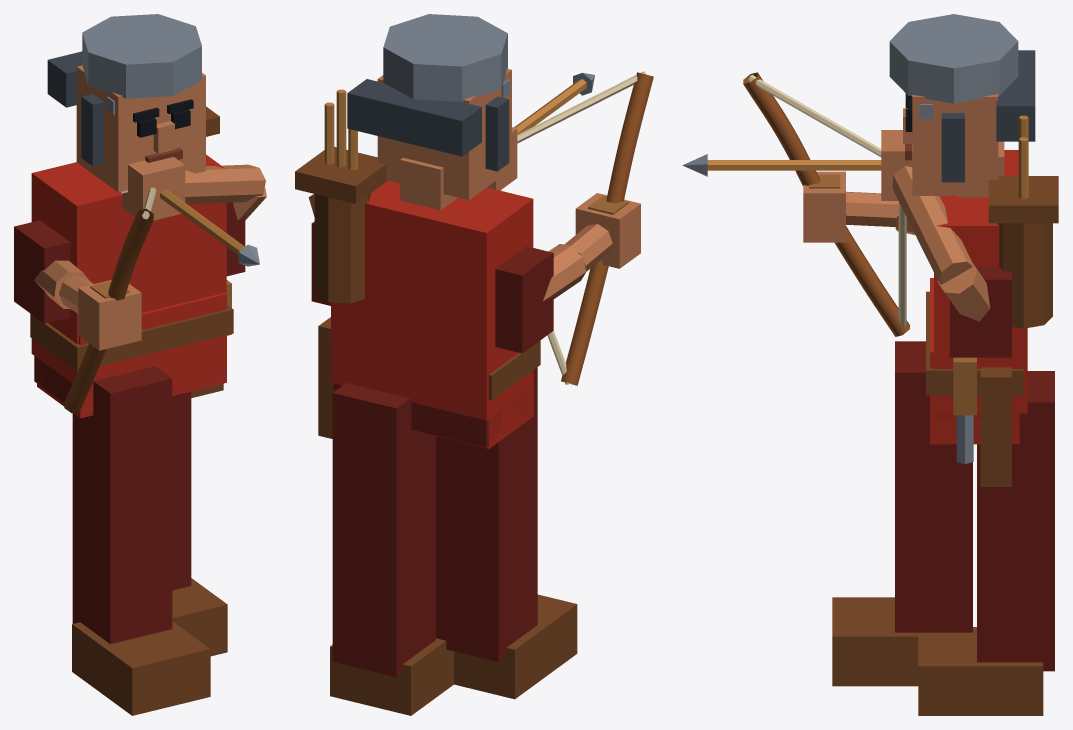
The model's file is sagittarius.glb.
3 renders of one model, left to right at view 1: azimuth 30°, elevation 25°; view 2: azimuth 150°, elevation 25°; view 3: azimuth 270°, elevation 25°, orthographic. The views are drawn at different scales.
Visible parts, largest first — view 1: 01_Gamba_Sinistra_Avanti, 10_Tunica_Busto, 04_Caliga_Sinistra, 30_Elmo_Ausiliario, 21_Viso, 13_Cintura, 12_Tunica_Falda_Destra, 02_Gamba_Destra_Indietro, 50_Manica_Sinistra, 53_Mano_Sinistra_Arco, 70_Arco_Curvo_Parallelo_Al_Corpo, 05_Caliga_Destra (+12 smaller); view 2: 10_Tunica_Busto, 02_Gamba_Destra_Indietro, 01_Gamba_Sinistra_Avanti, 30_Elmo_Ausiliario, 32_Paranuca_Elmo, 04_Caliga_Sinistra, 05_Caliga_Destra, 50_Manica_Sinistra, 40_Faretra, 21_Viso, 70_Arco_Curvo_Parallelo_Al_Corpo, 41_Bordo_Faretra (+14 smaller); view 3: 02_Gamba_Destra_Indietro, 01_Gamba_Sinistra_Avanti, 30_Elmo_Ausiliario, 05_Caliga_Destra, 04_Caliga_Sinistra, 10_Tunica_Busto, 21_Viso, 40_Faretra, 70_Arco_Curvo_Parallelo_Al_Corpo, 60_Manica_Destra, 62_Avambraccio_Destro_Gomito_Mano, 14_Fodero_Pugnale (+15 smaller).
Boxes of the visible parts, x1,y1,x2,y2 form: 01_Gamba_Sinistra_Avanti: (72, 366, 172, 643); 10_Tunica_Busto: (31, 154, 226, 383); 04_Caliga_Sinistra: (72, 621, 210, 715); 30_Elmo_Ausiliario: (82, 14, 201, 98); 21_Viso: (76, 65, 205, 192); 13_Cintura: (30, 305, 233, 371); 12_Tunica_Falda_Destra: (147, 293, 226, 395); 02_Gamba_Destra_Indietro: (172, 391, 191, 590); 50_Manica_Sinistra: (14, 220, 70, 323); 53_Mano_Sinistra_Arco: (78, 280, 141, 350); 70_Arco_Curvo_Parallelo_Al_Corpo: (64, 208, 153, 413); 05_Caliga_Destra: (172, 578, 227, 656); 10_Tunica_Busto: (331, 180, 533, 420); 02_Gamba_Destra_Indietro: (332, 383, 435, 677); 01_Gamba_Sinistra_Avanti: (436, 367, 537, 662); 30_Elmo_Ausiliario: (383, 14, 507, 101); 32_Paranuca_Elmo: (347, 79, 481, 156); 04_Caliga_Sinistra: (454, 594, 577, 699); 05_Caliga_Destra: (330, 638, 453, 715); 50_Manica_Sinistra: (495, 246, 553, 353); 40_Faretra: (314, 193, 371, 303); 21_Viso: (377, 68, 511, 200); 70_Arco_Curvo_Parallelo_Al_Corpo: (561, 72, 653, 385); 41_Bordo_Faretra: (295, 147, 387, 203); 02_Gamba_Destra_Indietro: (977, 371, 1054, 671); 01_Gamba_Sinistra_Avanti: (895, 341, 972, 632); 30_Elmo_Ausiliario: (889, 14, 1018, 103); 05_Caliga_Destra: (918, 627, 1043, 715); 04_Caliga_Sinistra: (832, 597, 957, 686); 10_Tunica_Busto: (934, 150, 1027, 413); 21_Viso: (912, 94, 998, 195); 40_Faretra: (997, 223, 1052, 328); 70_Arco_Curvo_Parallelo_Al_Corpo: (743, 72, 909, 336); 60_Manica_Destra: (949, 266, 1011, 357); 62_Avambraccio_Destro_Gomito_Mano: (892, 166, 972, 284); 14_Fodero_Pugnale: (980, 367, 1011, 486).
Size of the model in its own units: 1.48 by 3.62 by 1.93.
